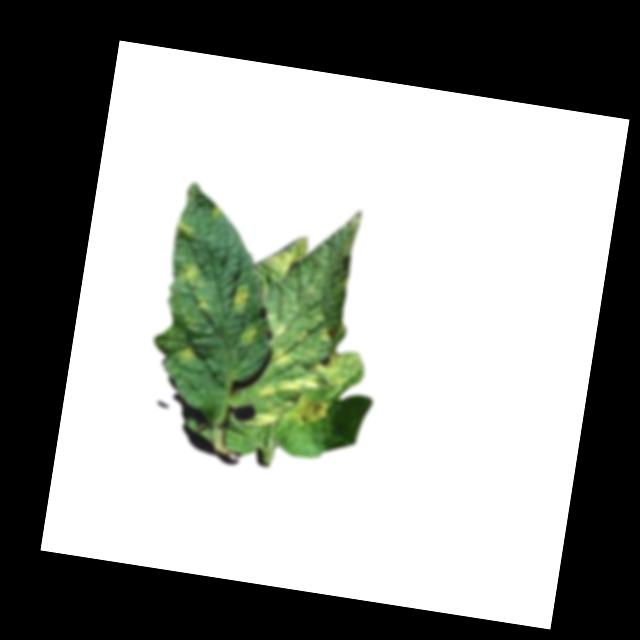Leaf_Mold: (301, 333, 357, 398), (261, 232, 313, 276), (286, 390, 330, 431), (225, 280, 253, 315), (234, 322, 258, 351), (178, 262, 201, 289), (250, 408, 277, 430), (176, 339, 199, 363), (269, 347, 290, 368)
